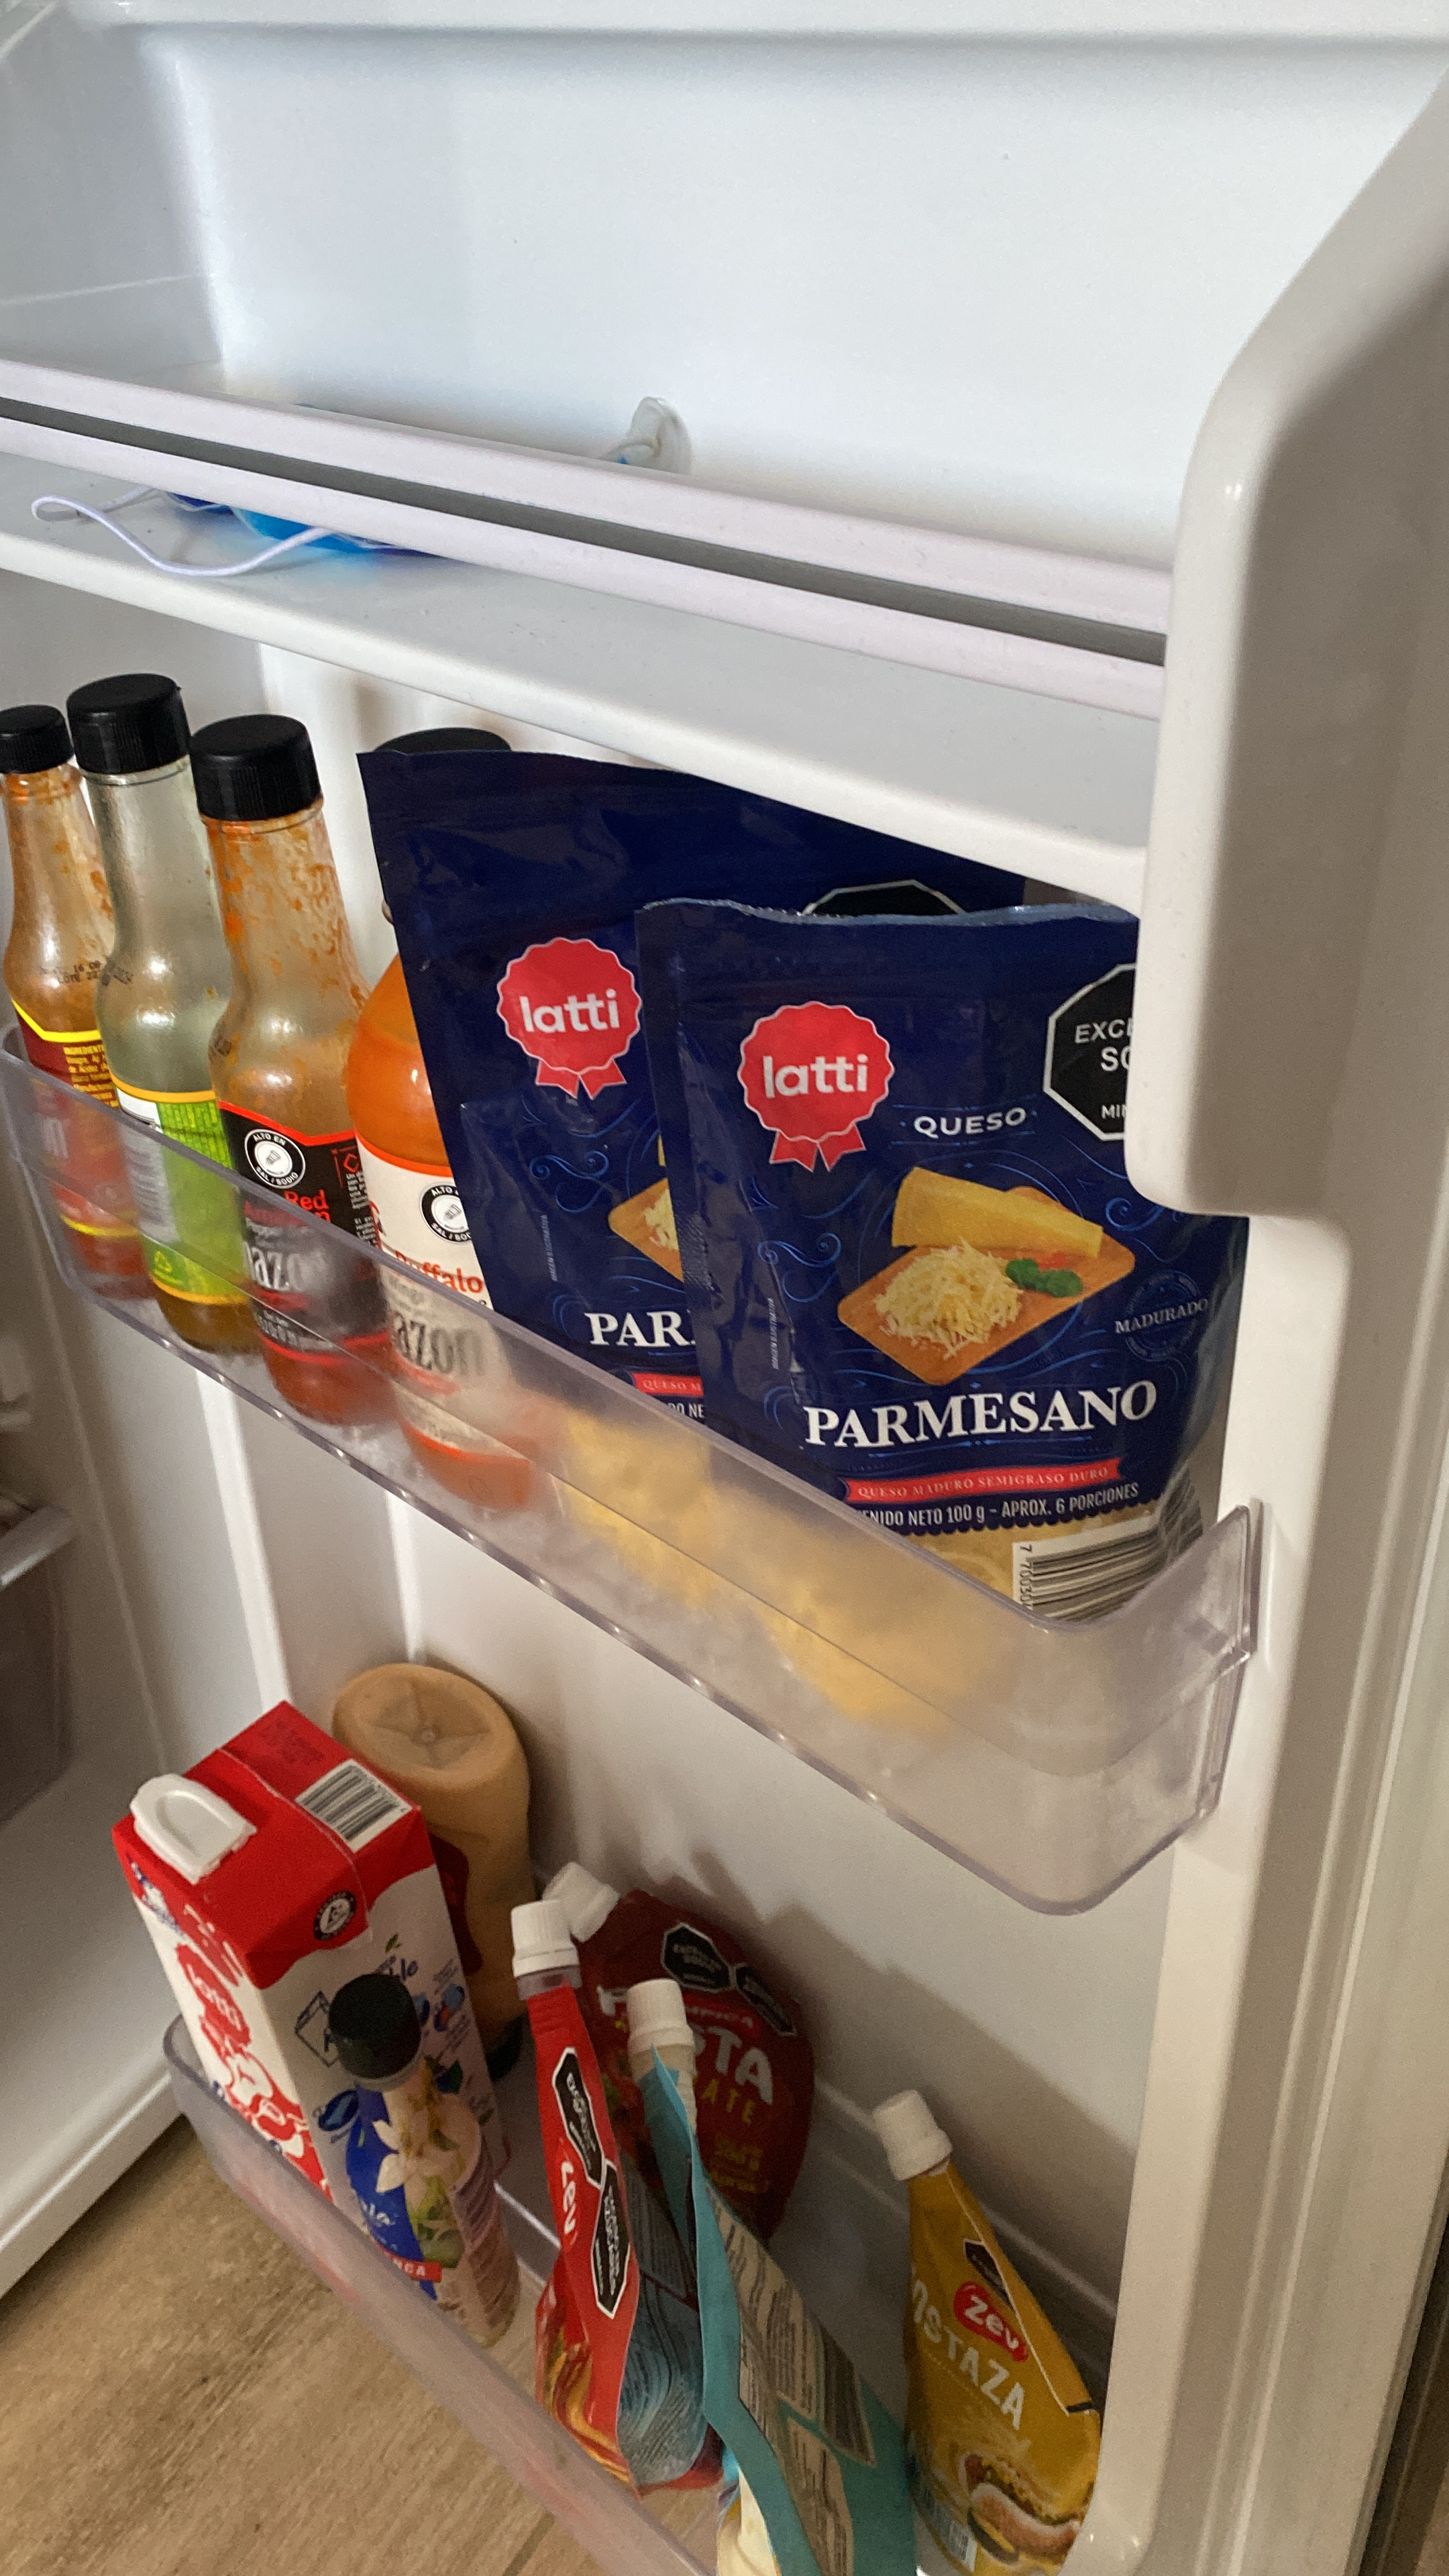Queso Parmesano: (343, 731, 987, 1580), (649, 890, 1226, 1732)
